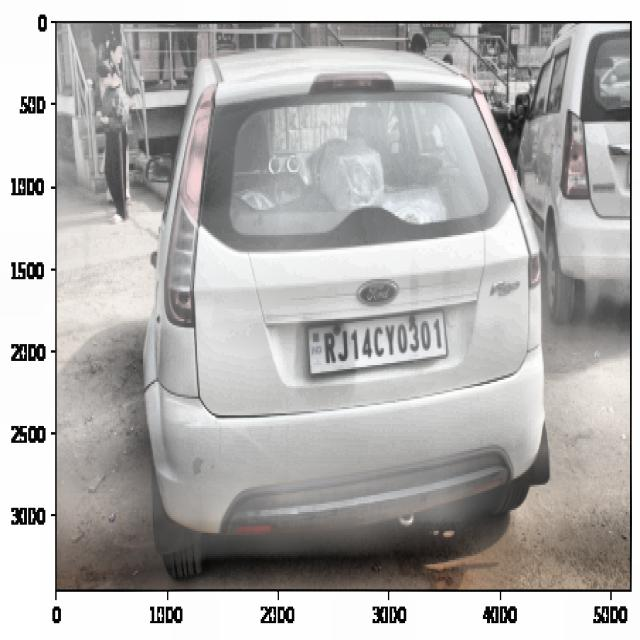license_plate: (320, 315, 449, 370)
